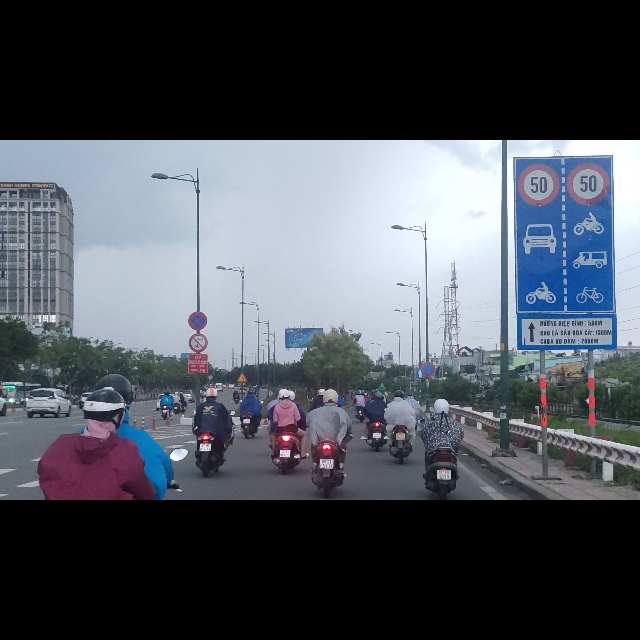bien_nguy_hiem: (515, 118, 614, 305), (517, 43, 561, 116), (566, 39, 609, 113), (188, 304, 208, 338), (189, 343, 208, 376), (420, 395, 435, 419), (237, 412, 248, 430), (416, 406, 424, 423)
